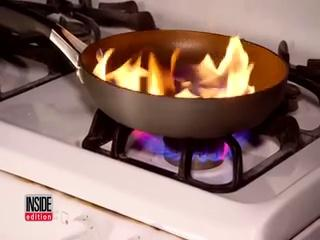Fire: (94, 15, 264, 102)
